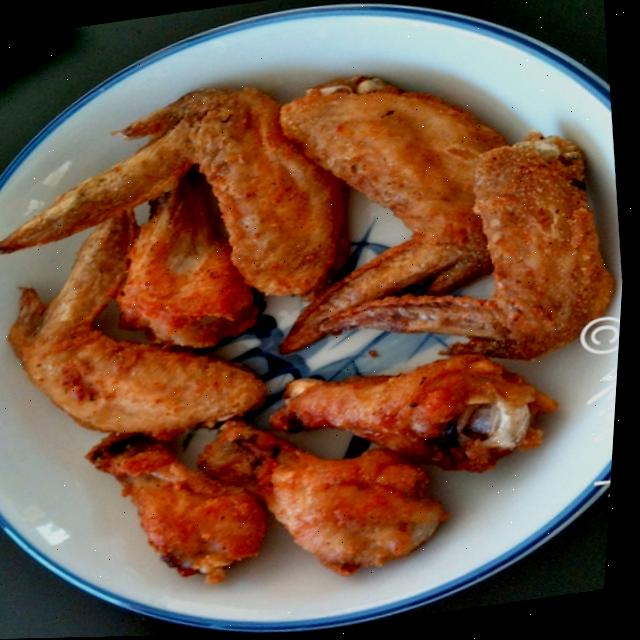鸡肉料理 含炸鸡: (0, 10, 639, 640)
